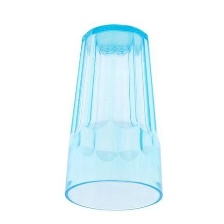glass: (53, 20, 172, 214)
